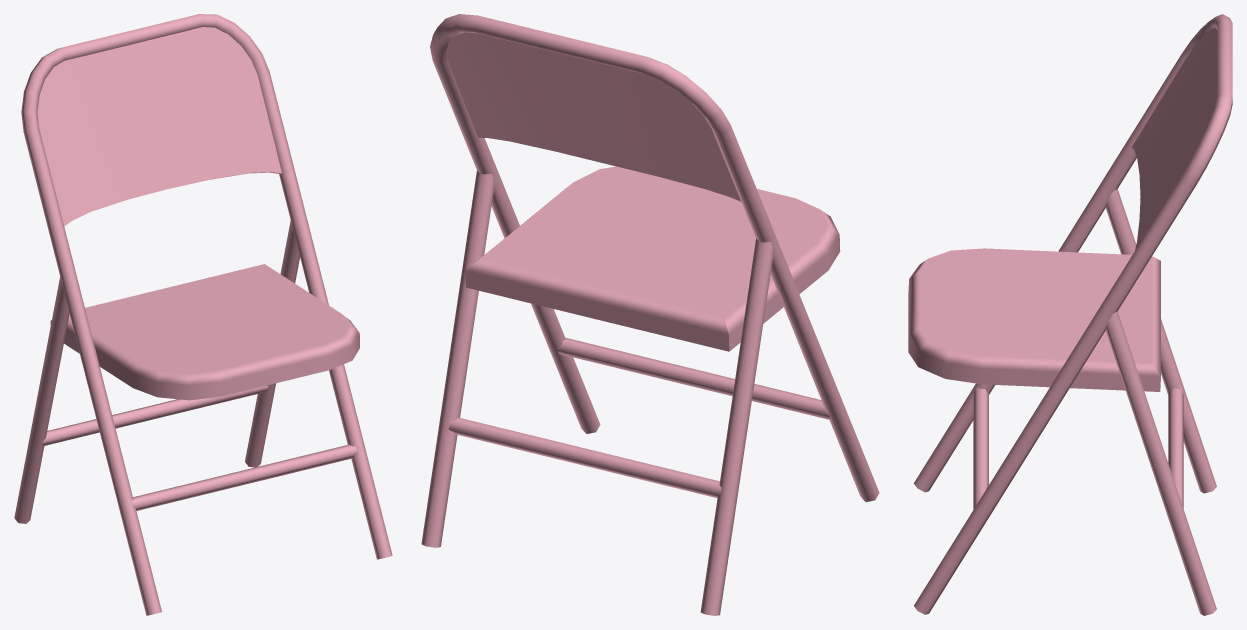
The model's file is ChairInterrogation.fbx.
The picture shows the model from 3 angles, left to right: view 1: azimuth 30°, elevation 25°; view 2: azimuth 150°, elevation 25°; view 3: azimuth 270°, elevation 25°; orthographic projection. The views are drawn at different scales.
Visible parts, largest first — view 1: ChairInterrogation; view 2: ChairInterrogation; view 3: ChairInterrogation.
Boxes of the visible parts, x1,y1,x2,y2 form: ChairInterrogation: (14, 14, 392, 615); ChairInterrogation: (421, 14, 879, 615); ChairInterrogation: (908, 14, 1232, 615).
Bounding box in the file's own units: 63.81 × 115 × 67.84.
